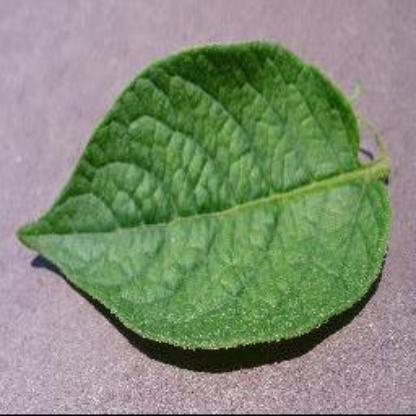Healthy-plant: (10, 31, 410, 361)
